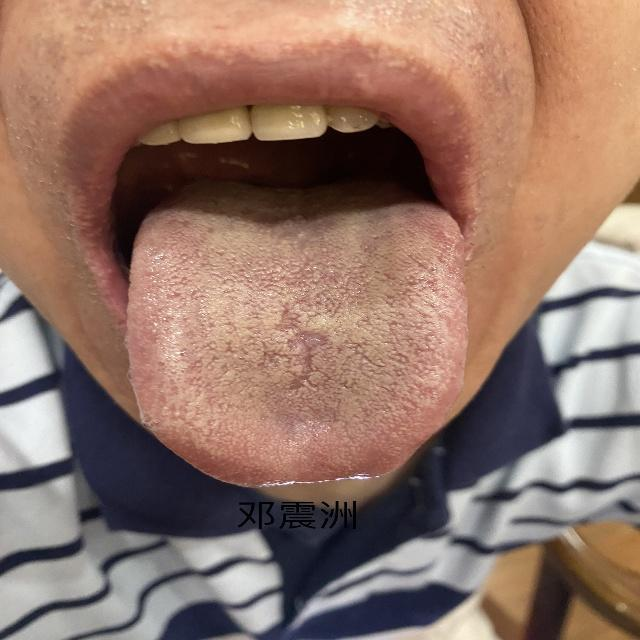baitaishe: (125, 203, 469, 489)
